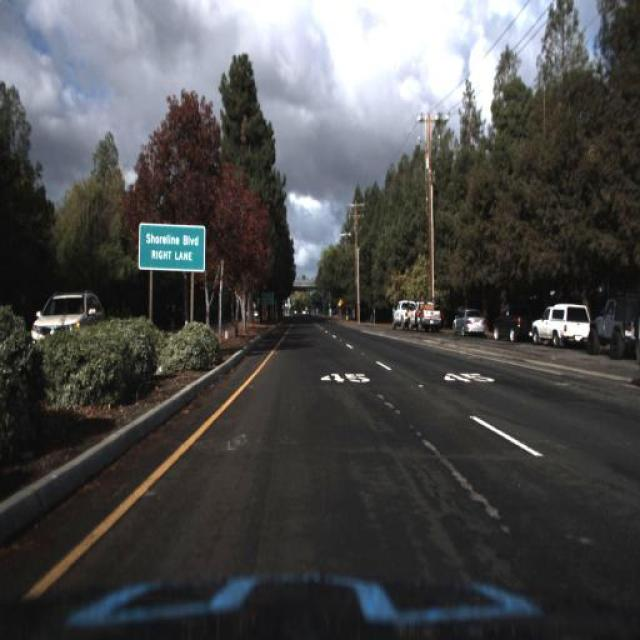car: (33, 288, 106, 352), (530, 299, 591, 346), (533, 301, 591, 348), (487, 300, 531, 340), (411, 297, 443, 332), (388, 296, 416, 335), (453, 310, 488, 338), (454, 310, 490, 334)
